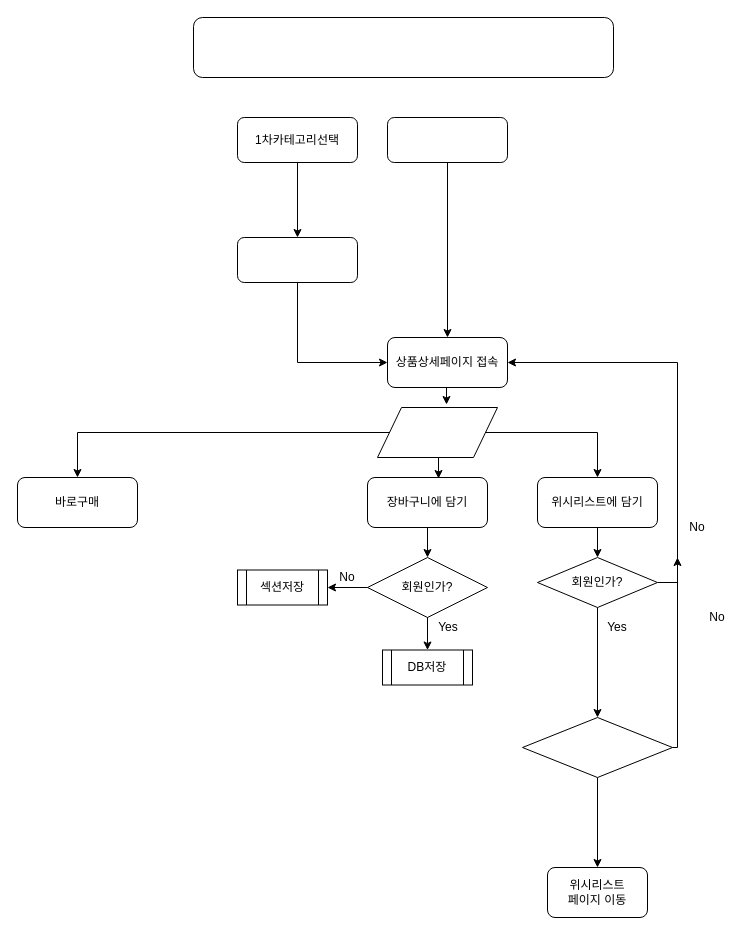
Image size: 755x935. Some labels were removed from this diagram. The centre of each missing label's shape, as x and y in pixels:
"2차카테고리선택" goes at [297,259].
"상품검색" goes at [447,139].
"상품구매 프로세스" goes at [403,47].
"수량선택" goes at [437,432].
"위시리스트로 이동하시겠습니까?" goes at [597,747].
